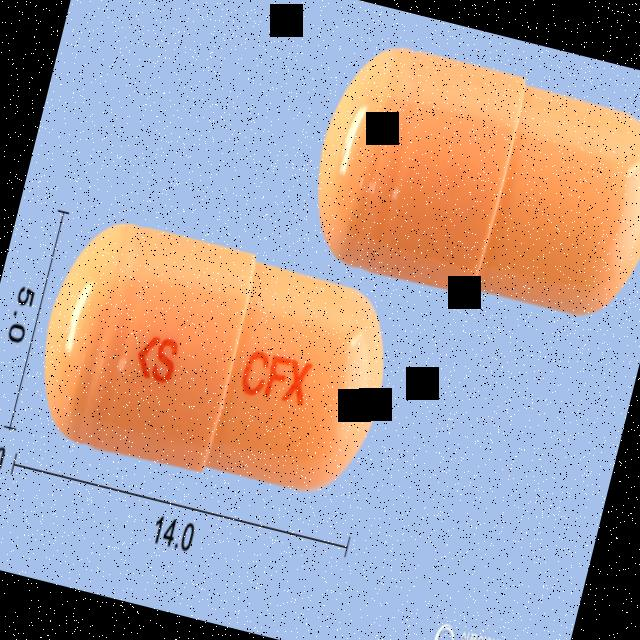Supric Cap: (22, 206, 406, 512)
